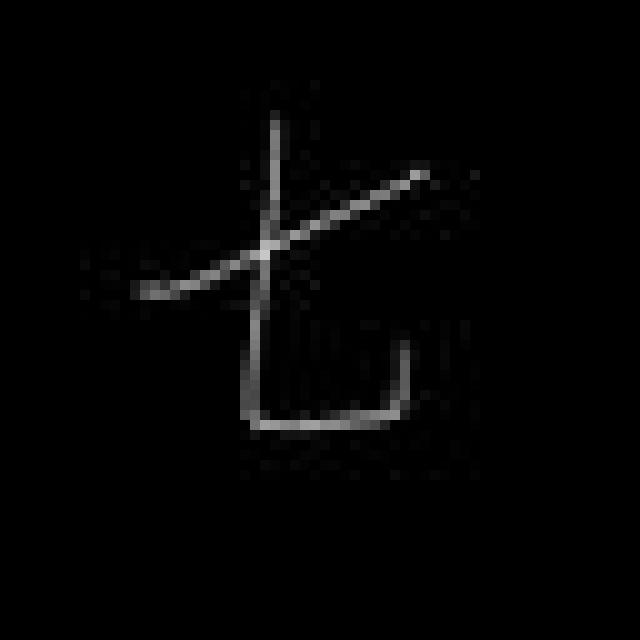7 -seven-: (127, 104, 430, 438)
